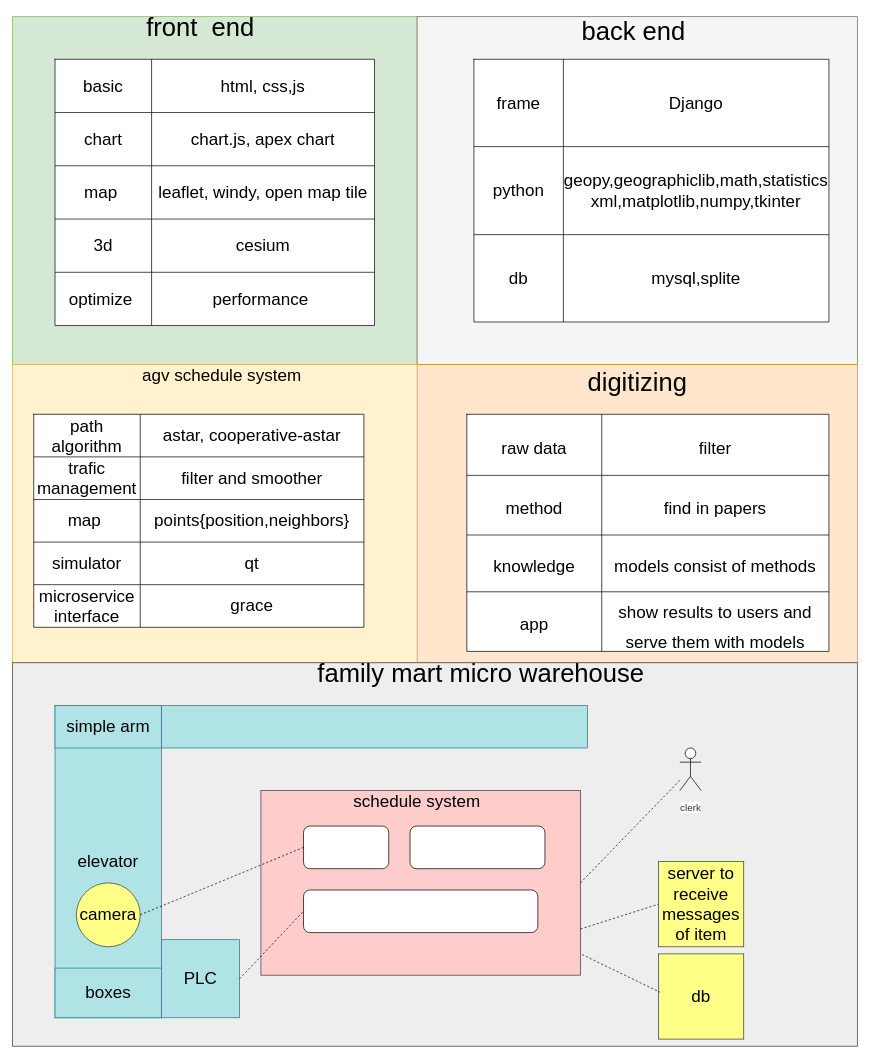
Image size: 870x1059. Some labels were removed from this diagram. Here are the shapes that lost their labels. From the top down, the centre of each, then its label:
At point (374, 726): "warehouse: boxes with items".
At point (346, 847): "take box let volume".
At point (477, 847): "scaner:barcode".
At point (420, 911): "schedule boxes and elevator".
